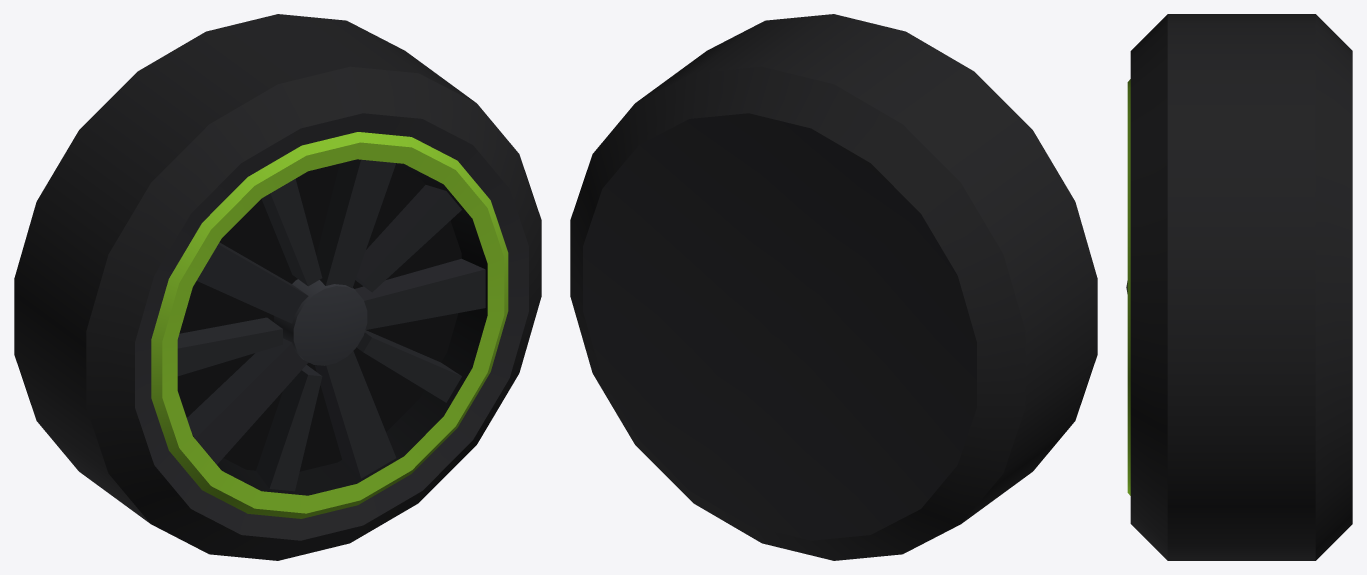
The model's file is phantom_wheel.glb.
3 views of the same model, side by side, from view 1: azimuth 30°, elevation 25°; view 2: azimuth 150°, elevation 25°; view 3: azimuth 270°, elevation 25° (orthographic). The views are drawn at different scales.
Visible parts, largest first — view 1: Wheel; view 2: Wheel; view 3: Wheel.
Part boxes in pixels (box(x1,y1,x2,y2)): Wheel: box(14, 14, 541, 560); Wheel: box(570, 14, 1097, 560); Wheel: box(1126, 14, 1352, 560).
Bounding box in the file's own units: 0.7309 × 0.7309 × 0.306.
